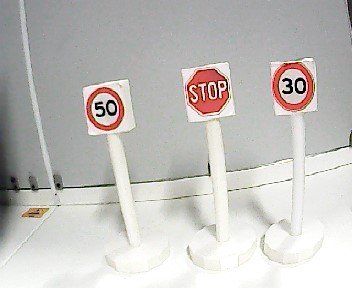30-bord: (272, 61, 316, 112)
50-bord: (86, 87, 125, 130)
stop-bord: (185, 67, 231, 117)
